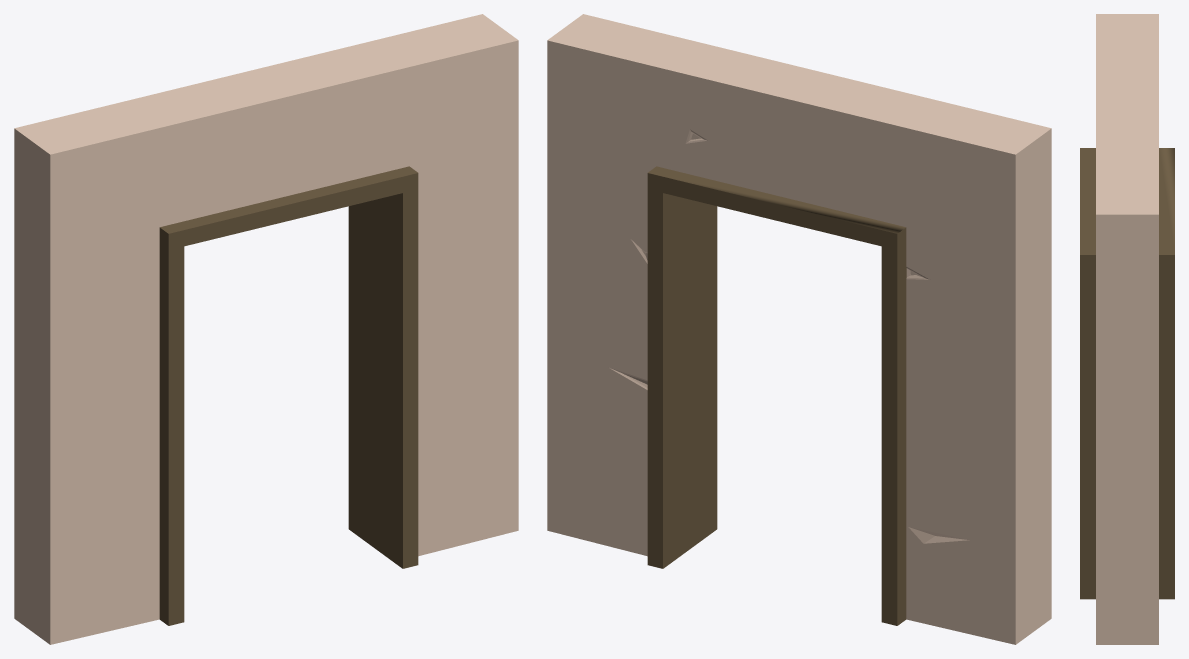
Rendered from greek_wall_2_door.fbx.
3 views of the same model, side by side, from view 1: azimuth 30°, elevation 25°; view 2: azimuth 150°, elevation 25°; view 3: azimuth 270°, elevation 25° (orthographic). The views are drawn at different scales.
Visible parts, largest first — view 1: Cube.023; view 2: Cube.023; view 3: Cube.023.
Part boxes in pixels (x1,y1,x2,y2): Cube.023: (14, 14, 518, 644); Cube.023: (547, 14, 1051, 644); Cube.023: (1080, 14, 1174, 644).
Size of the model in its own units: 300 by 301 by 60.
